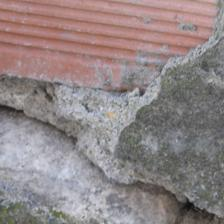Crack: (86, 54, 137, 164), (170, 156, 224, 224)
